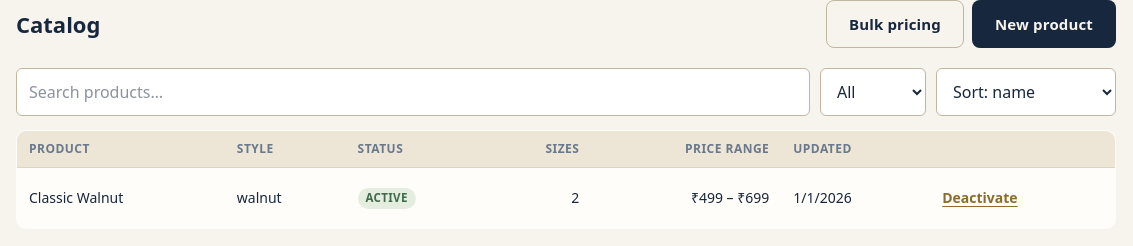
Test case: CatalogPage › lists products and searches by name
The image size is (1133, 246).
Expected: the link "Classic Walnut" is shown, left=29, top=188, right=123, bottom=207
Type "nope" into the field with test id "catalog-search". click: x=413, y=92
box: left=16, top=68, right=810, bottom=116
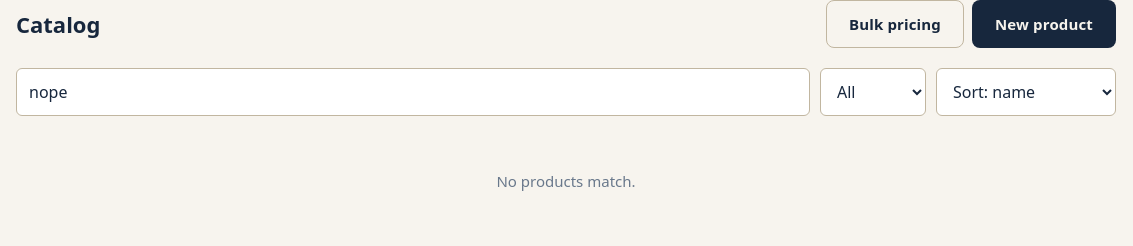
Expected: the link "Classic Walnut" is gone
